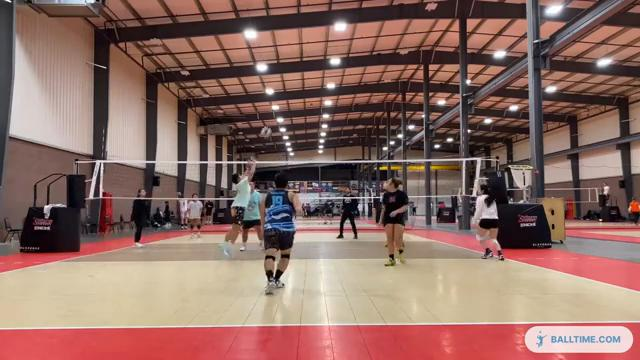alzata: (219, 147, 257, 258)
